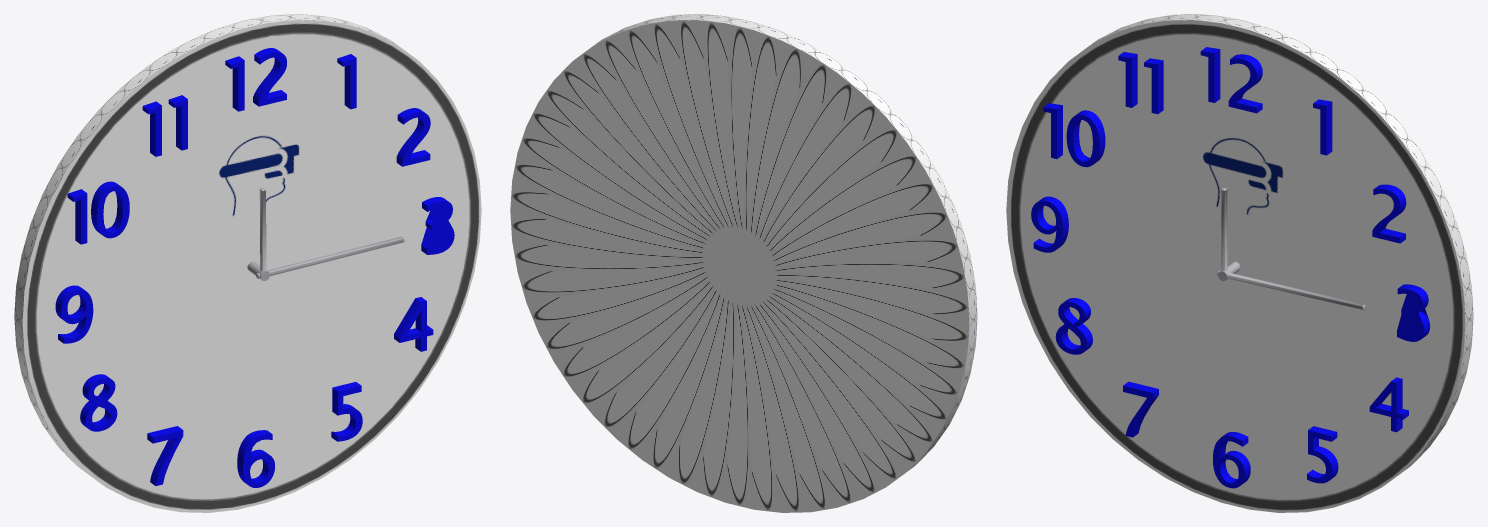
File: My_Clock.fbx
3 renders of one model, left to right at view 1: azimuth 30°, elevation 25°; view 2: azimuth 150°, elevation 25°; view 3: azimuth 330°, elevation 25°, orthographic.
Parts seen in each view (by area): view 1: Back, N10, N12, N3, N8, N6, N9, N11, N2, N4, N5, N7 (+3 smaller); view 2: Back; view 3: Back, N10, N12, N3, N11, N8, N6, N9, N5, N4, N2, pCube5 (+3 smaller).
Boxes of the visible parts, left/top/right/bottom form: Back: left=14, top=14, right=481, bottom=512; N10: left=67, top=181, right=129, bottom=244; N12: left=225, top=48, right=286, bottom=111; N3: left=421, top=197, right=454, bottom=254; N8: left=80, top=374, right=117, bottom=431; N6: left=237, top=430, right=274, bottom=487; N9: left=55, top=285, right=93, bottom=343; N11: left=142, top=95, right=187, bottom=156; N2: left=396, top=108, right=430, bottom=166; N4: left=394, top=297, right=433, bottom=351; N5: left=331, top=382, right=362, bottom=441; N7: left=147, top=426, right=183, bottom=485; Back: left=510, top=14, right=977, bottom=512; Back: left=1006, top=14, right=1473, bottom=512; N10: left=1043, top=103, right=1105, bottom=167; N12: left=1200, top=47, right=1262, bottom=113; N3: left=1397, top=284, right=1430, bottom=341; N11: left=1118, top=52, right=1163, bottom=114; N8: left=1055, top=298, right=1092, bottom=354; N6: left=1213, top=432, right=1250, bottom=488; N9: left=1031, top=196, right=1068, bottom=252; N5: left=1307, top=426, right=1338, bottom=483; N4: left=1369, top=377, right=1408, bottom=432; N2: left=1372, top=184, right=1406, bottom=243; pCube5: left=1217, top=270, right=1365, bottom=310.
Bounding box in the file's own units: 98.2 × 98 × 7.96.
Materials: 14 (1 with a texture image).
